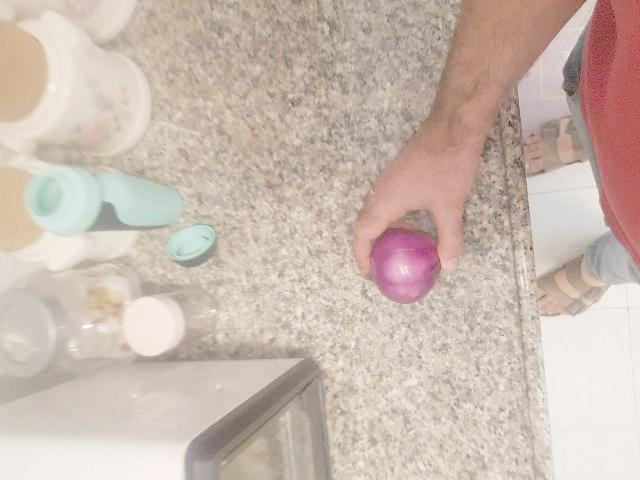onion: (180, 370, 261, 446)
